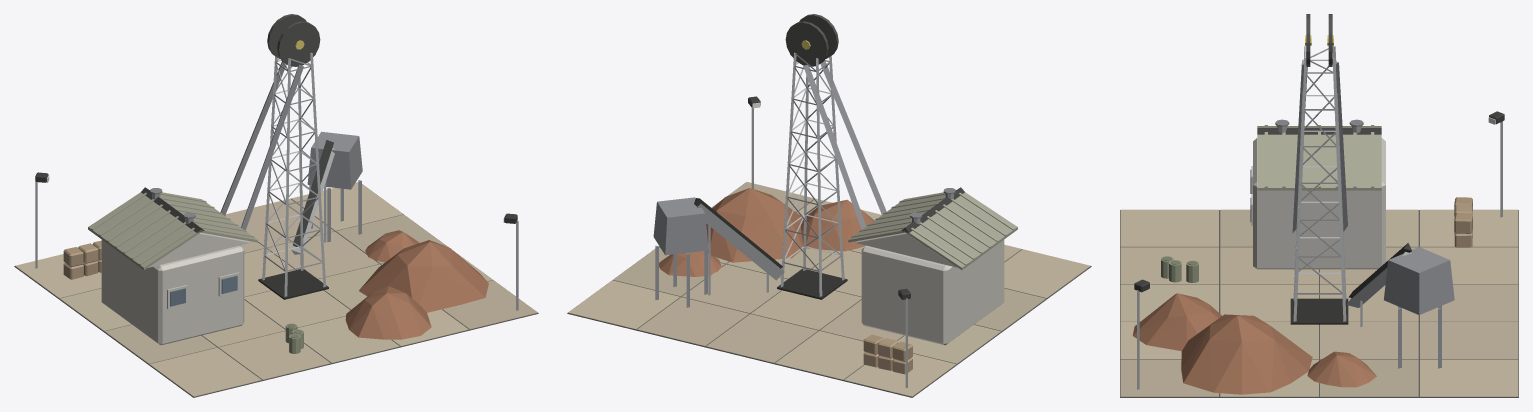
The model's file is b_ironmine.glb.
3 views of the same model, side by side, from view 1: azimuth 30°, elevation 25°; view 2: azimuth 150°, elevation 25°; view 3: azimuth 270°, elevation 25° (orthographic). The views are drawn at different scales.
Visible parts, largest first — view 1: hull; view 2: hull; view 3: hull.
Boxes of the visible parts, box(x1,y1,x2,y2) form: hull: box(14, 14, 538, 397); hull: box(567, 14, 1091, 397); hull: box(1120, 14, 1518, 397).
Bounding box in the file's own units: 20 × 14.85 × 18.
